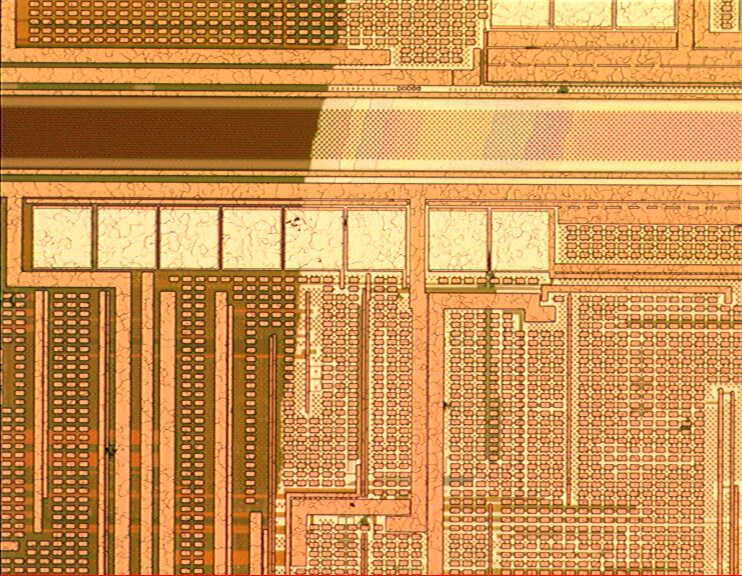COATING BAD: (275, 2, 742, 576)
